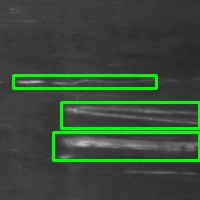scratches: (53, 132, 199, 160), (61, 102, 199, 128), (13, 75, 156, 88), (123, 166, 195, 176)
